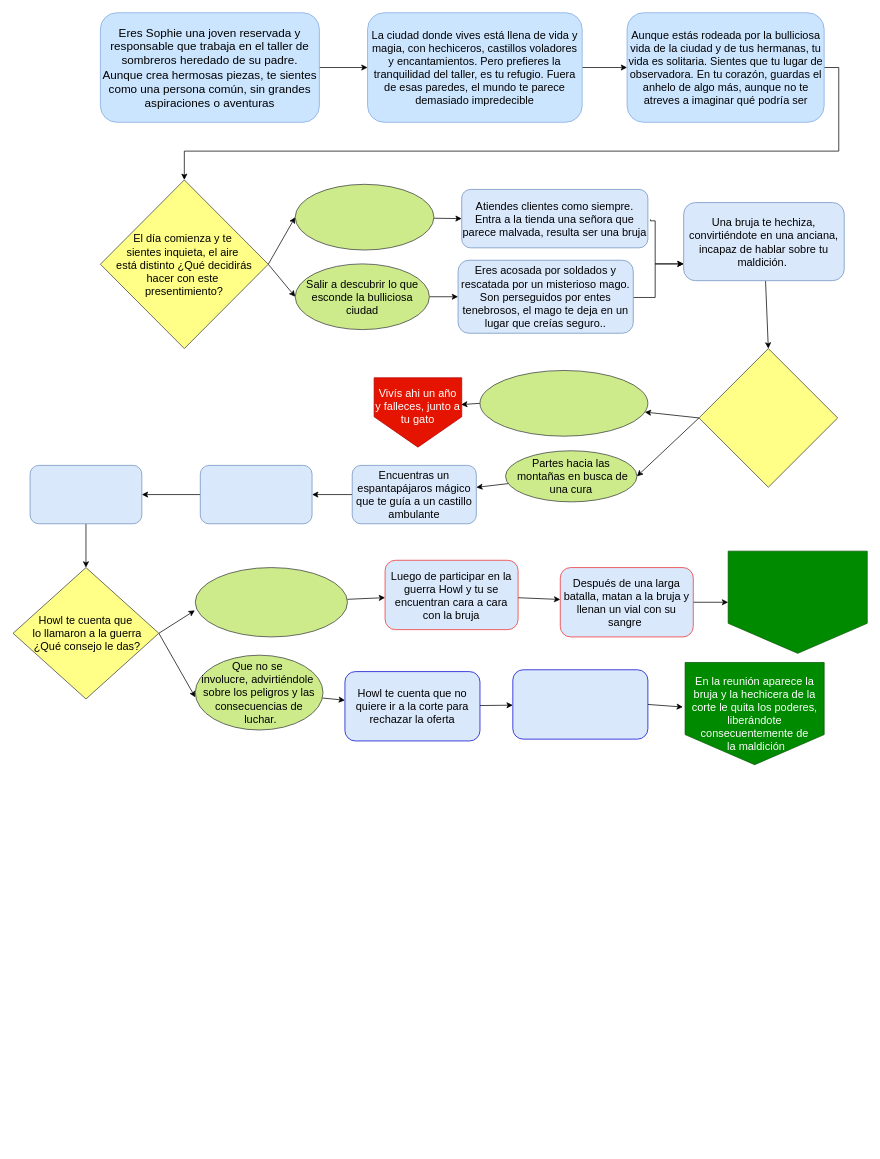
This 880x1159 diagram has some shape labels left out. The box of each missing label's shape, as (x1, y1, x2, y2) in pixels:
Desarrollas una relación cercana con Howl, el mago dueño del castillo: (29, 465, 142, 524)
En medio de la desesperación ¿Qué decides hacer al respecto?: (698, 348, 838, 487)
Howl prepara una pócima curativa y libera a Sophie del hechizo: (727, 550, 867, 653)
Le ofreces hacerlo en su lugar, yendo como su madre: (512, 669, 648, 739)
Permanecer en la tienda, donde todo parece bajo control: (294, 184, 434, 250)
Que haga justicia en la guerra, ofreciéndole tu apoyo para luchar: (195, 567, 347, 637)
Resignada al hechizo, te instalas en un geriátrico, aceptando tu nuevo destino: (479, 370, 648, 436)
Te fascinas con el gran castillo mágico y sus criaturas: (200, 465, 312, 524)
